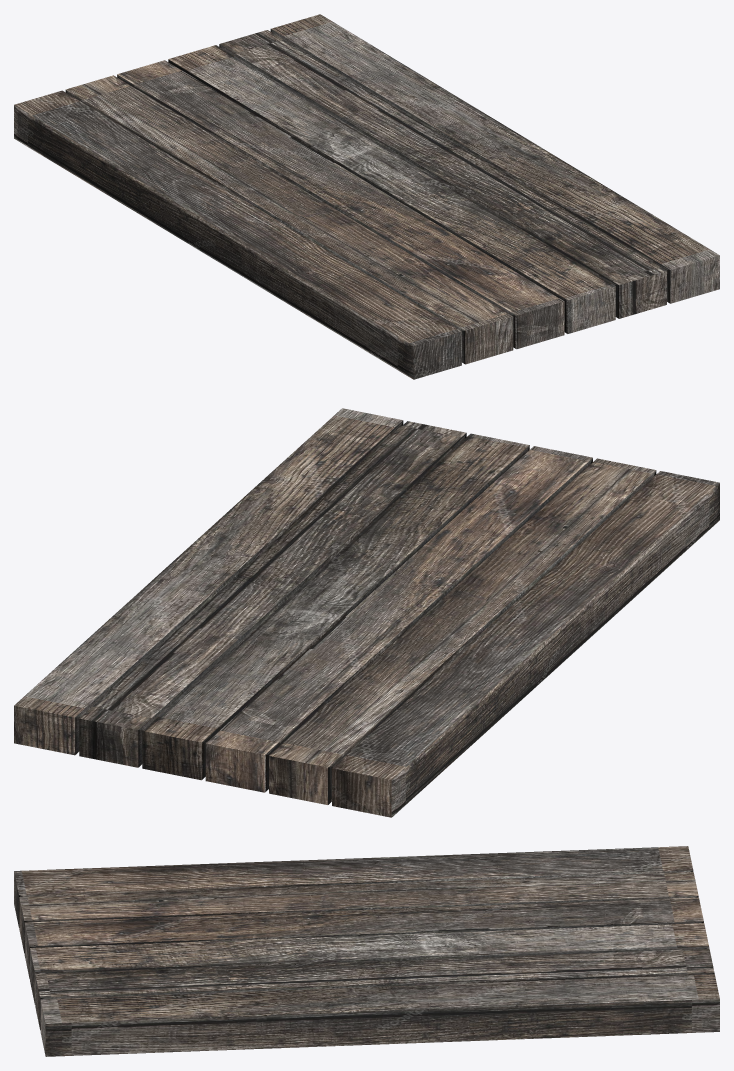
Rendered from trapdoor.glb.
The picture shows the model from 3 angles, top to bottom: view 1: azimuth 30°, elevation 25°; view 2: azimuth 150°, elevation 25°; view 3: azimuth 270°, elevation 25°; orthographic projection. The views are drawn at different scales.
Visible parts, largest first — view 1: Box097; view 2: Box097; view 3: Box097.
Part boxes in pixels (x1=…): Box097: x1=14, y1=14, x2=719, y2=379; Box097: x1=14, y1=408, x2=719, y2=817; Box097: x1=14, y1=846, x2=719, y2=1056.
Bounding box in the file's own units: 1.8 × 0.1546 × 3.01.
1 material, 1 textured.
